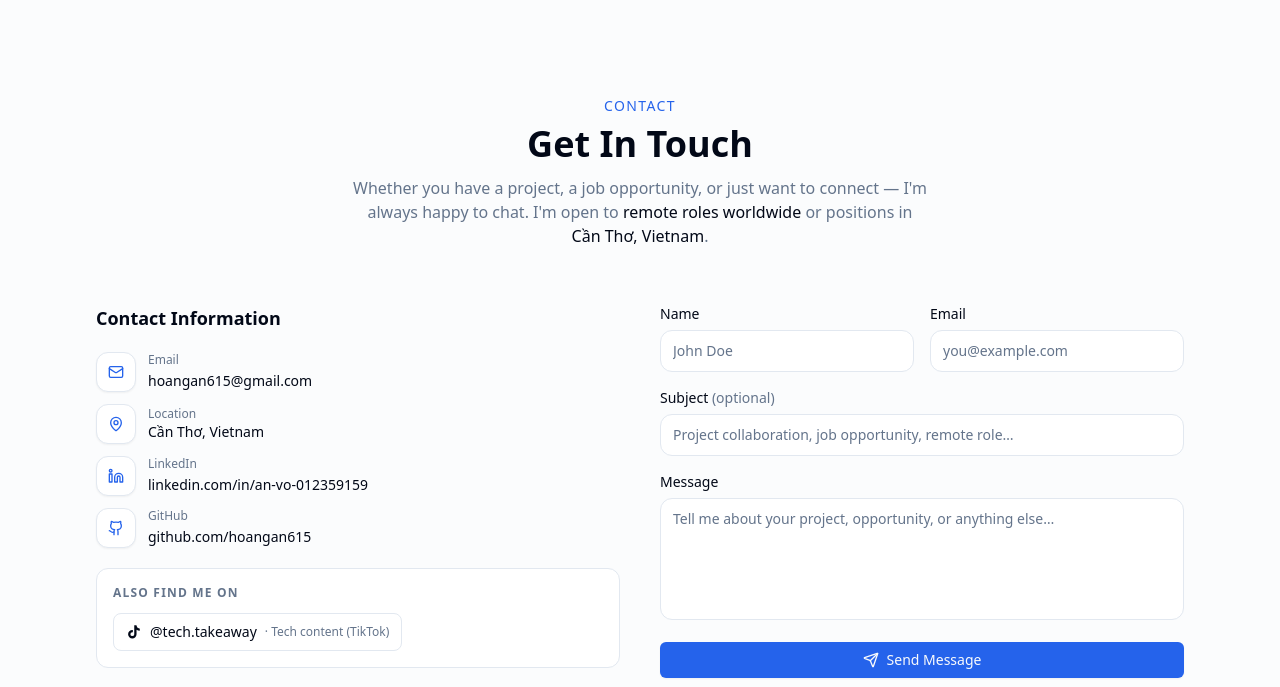
Test: Contact › shows validation errors when required fields are empty
Click the button "Send Message": (922, 660) [660, 642, 1184, 678]
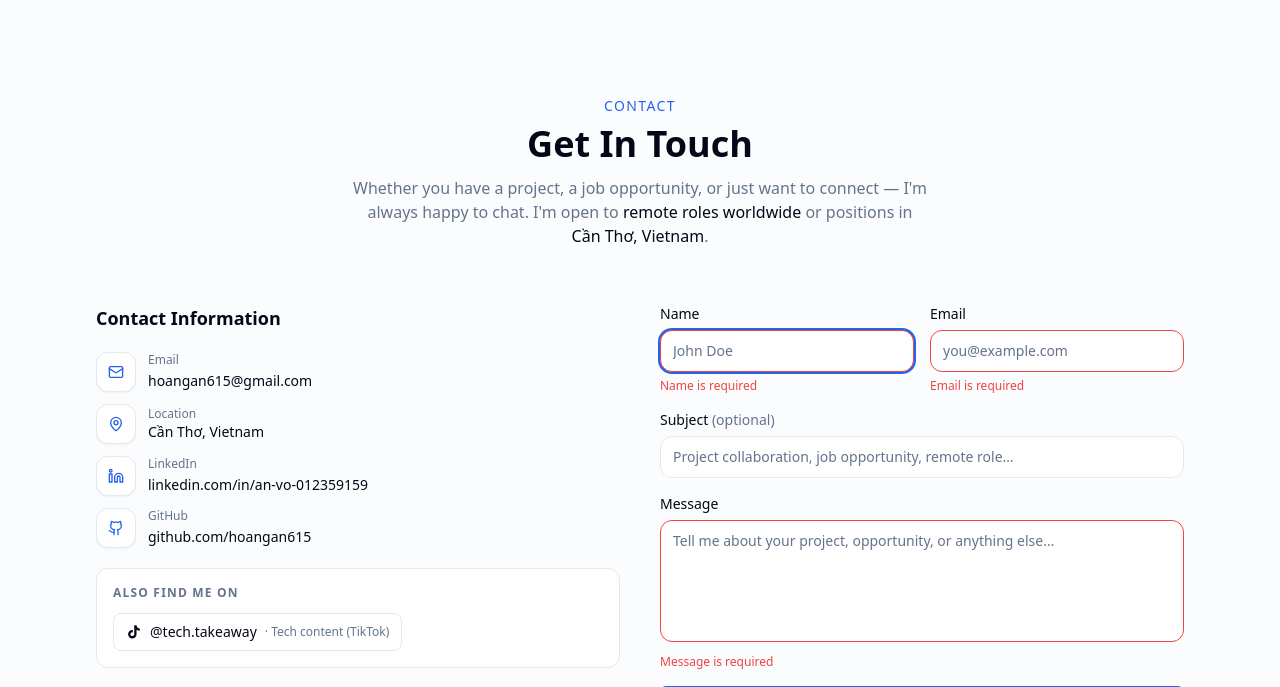
Check: the text "Name is required" is shown, box [660, 377, 757, 394]
Check: the text "Email is required" is shown, box [930, 377, 1024, 394]
Check: the text "Message is required" is shown, box [660, 653, 773, 670]
